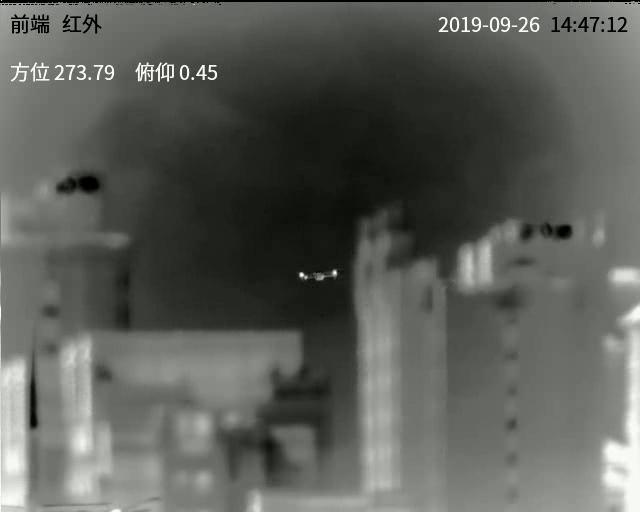DRONE: (296, 269, 338, 283)
